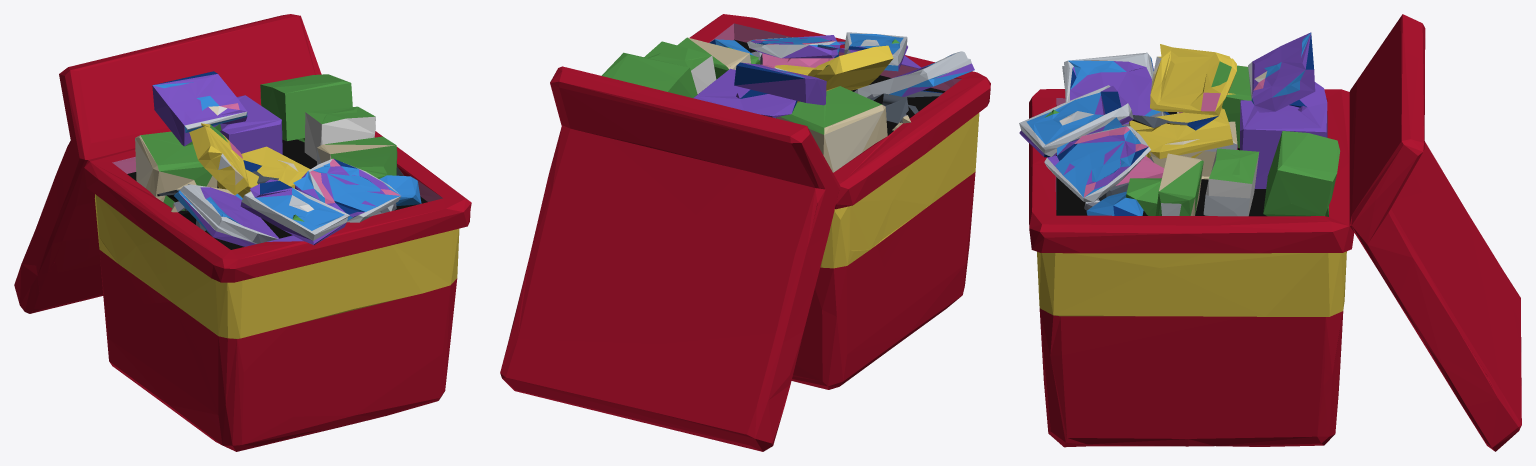
Rendered from bin.glb.
3 views of the same model, side by side, from view 1: azimuth 30°, elevation 25°; view 2: azimuth 150°, elevation 25°; view 3: azimuth 270°, elevation 25° (orthographic). The views are drawn at different scales.
Visible parts, largest first — view 1: bin; view 2: bin; view 3: bin.
Boxes of the visible parts, x1,y1,x2,y2 form: bin: (14, 14, 471, 451); bin: (500, 14, 990, 451); bin: (1019, 14, 1521, 451).
Bounding box in the file's own units: 0.4842 × 0.5007 × 0.72.
